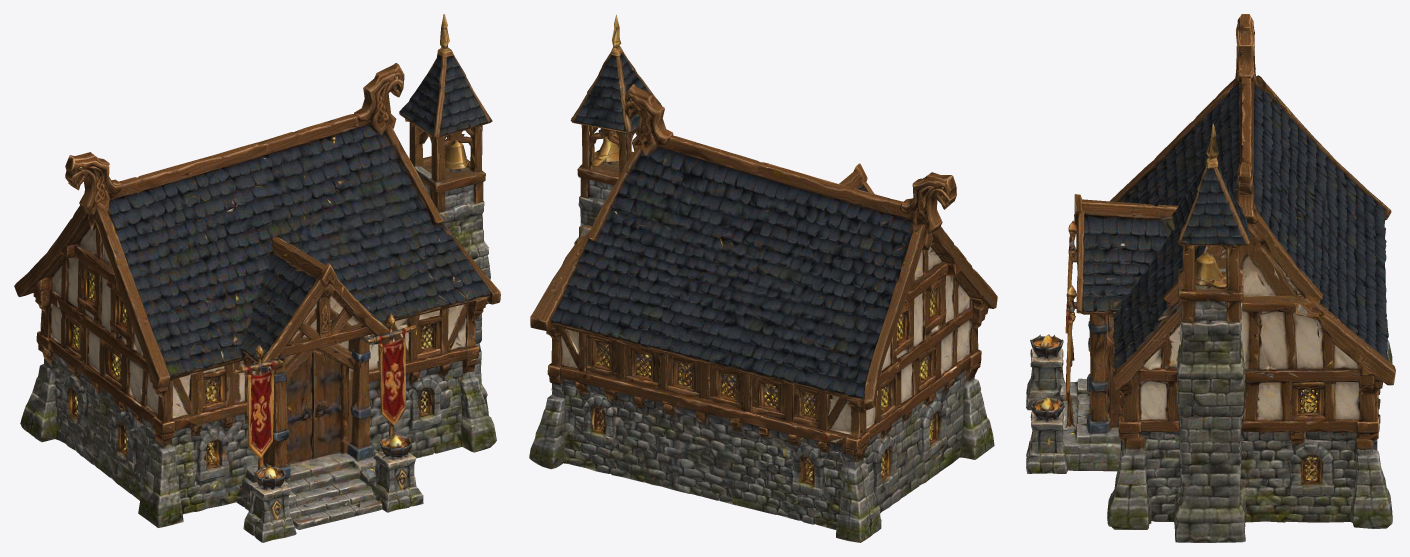
The model's file is halle.glb.
3 views of the same model, side by side, from view 1: azimuth 30°, elevation 25°; view 2: azimuth 150°, elevation 25°; view 3: azimuth 270°, elevation 25° (orthographic). The views are drawn at different scales.
Size of the model in its own units: 1.9 by 1.84 by 1.51.
Materials: 1 (1 with a texture image).
